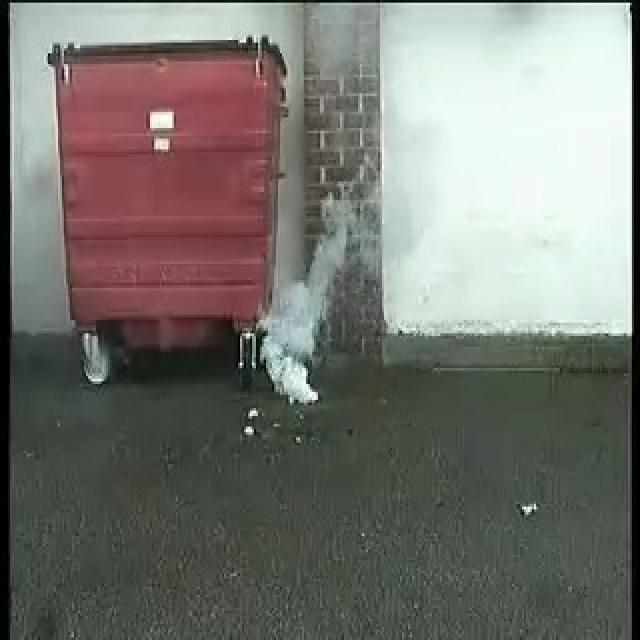smoke: (262, 184, 362, 403)
